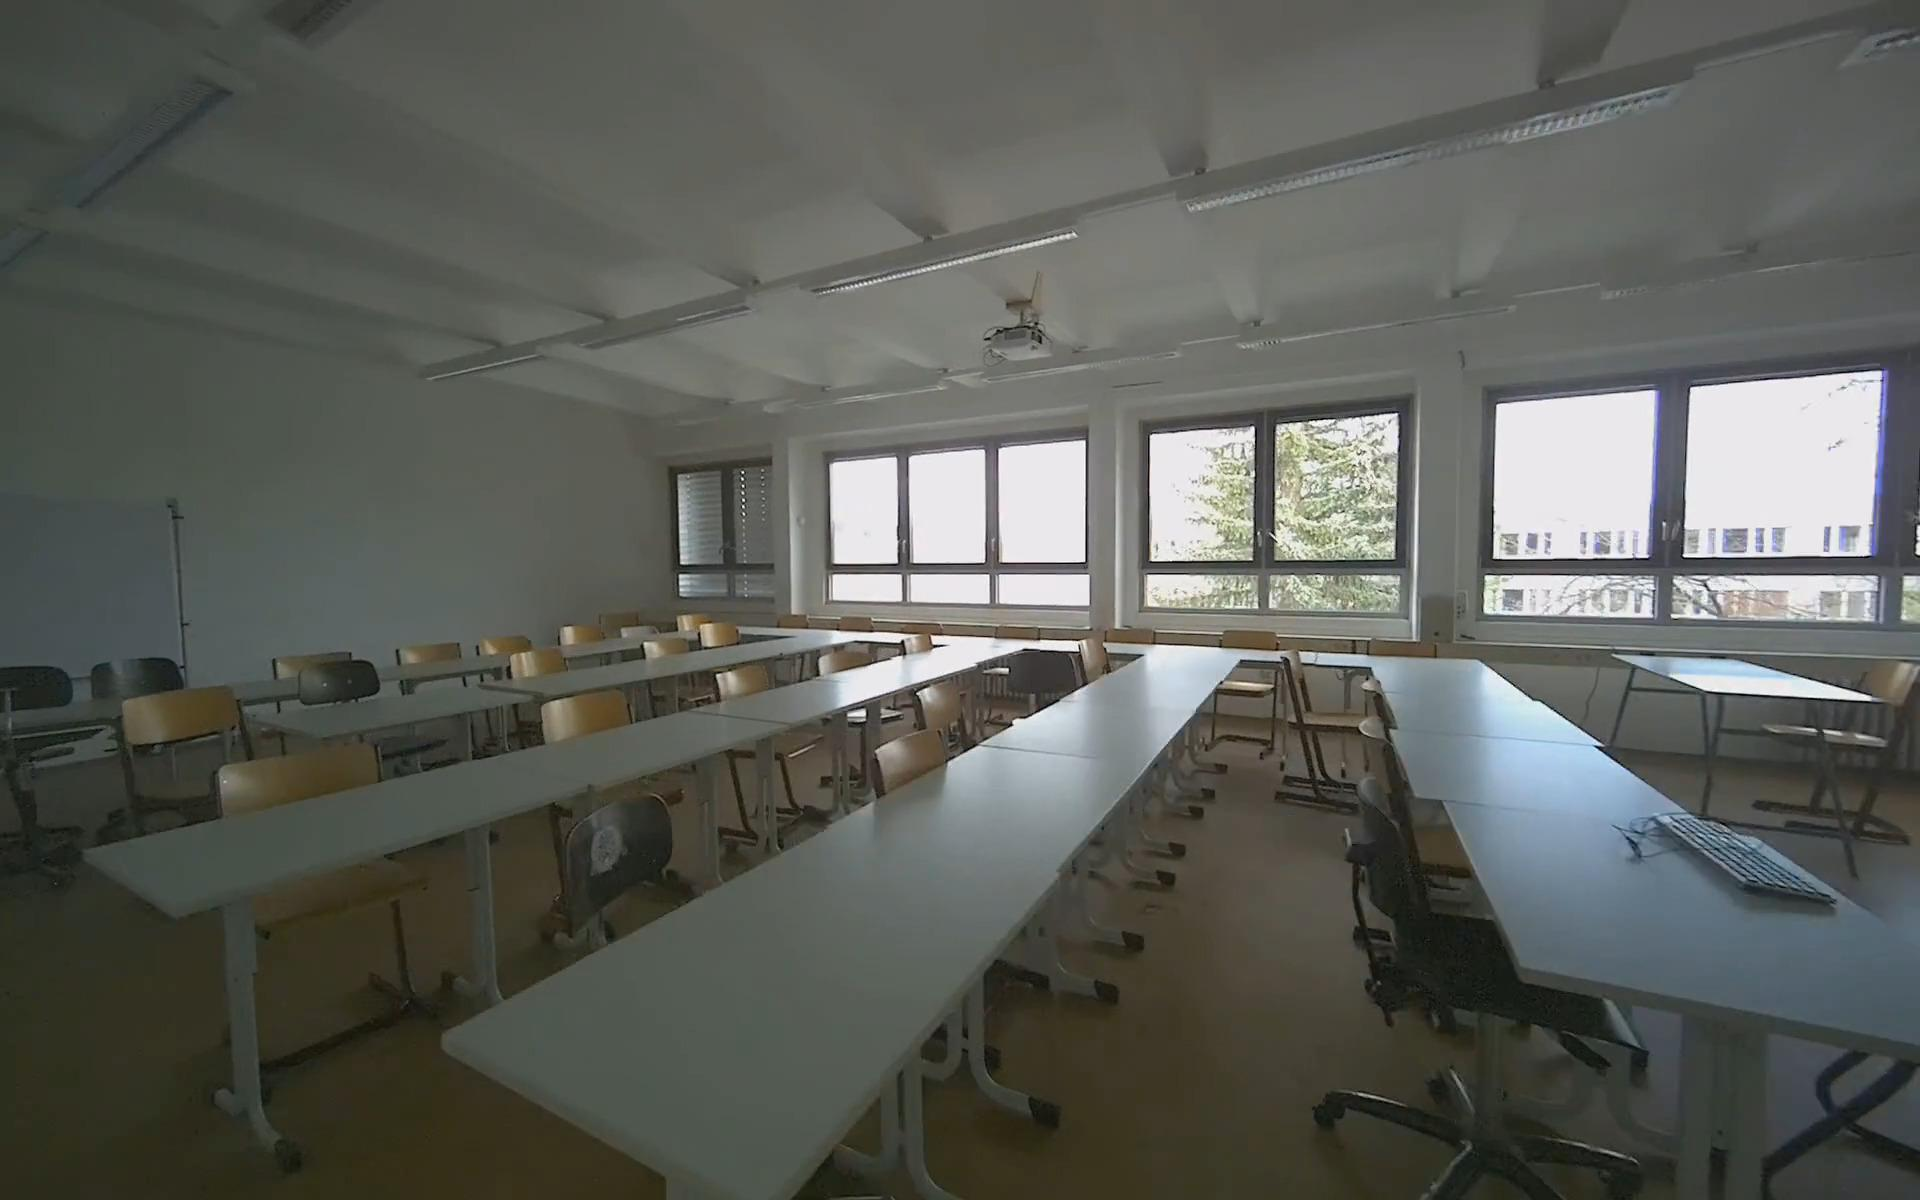chair: (1323, 774, 1650, 1193), (195, 735, 448, 1146), (553, 784, 804, 1174), (868, 729, 1062, 1060), (1356, 713, 1532, 1005), (119, 687, 274, 912), (1751, 665, 1913, 859), (1356, 677, 1487, 897), (531, 688, 663, 890), (715, 662, 838, 859), (91, 655, 217, 846), (0, 665, 105, 878), (297, 658, 416, 825), (1005, 647, 1102, 838), (1284, 650, 1391, 810), (1075, 637, 1165, 788), (816, 647, 907, 794), (272, 651, 362, 788), (399, 641, 500, 759), (1196, 630, 1284, 763), (1370, 640, 1444, 777), (507, 644, 589, 765), (476, 628, 553, 748), (896, 632, 972, 745), (969, 625, 1041, 731), (1099, 625, 1160, 749), (640, 636, 708, 737), (560, 625, 625, 722), (885, 619, 943, 726), (820, 615, 875, 726), (698, 622, 757, 724), (597, 611, 652, 695), (762, 612, 811, 701), (676, 614, 723, 701)
light: (1203, 75, 1685, 207), (37, 77, 232, 214), (1602, 241, 1920, 307), (814, 229, 1063, 296), (1236, 300, 1516, 353), (567, 296, 749, 351), (981, 350, 1179, 384), (265, 0, 377, 47), (424, 346, 554, 382), (1826, 26, 1920, 72), (814, 380, 958, 409), (663, 401, 777, 430), (0, 223, 47, 279)
window: (1478, 344, 1920, 632), (1136, 394, 1415, 619), (824, 424, 1092, 611), (669, 455, 777, 606)
